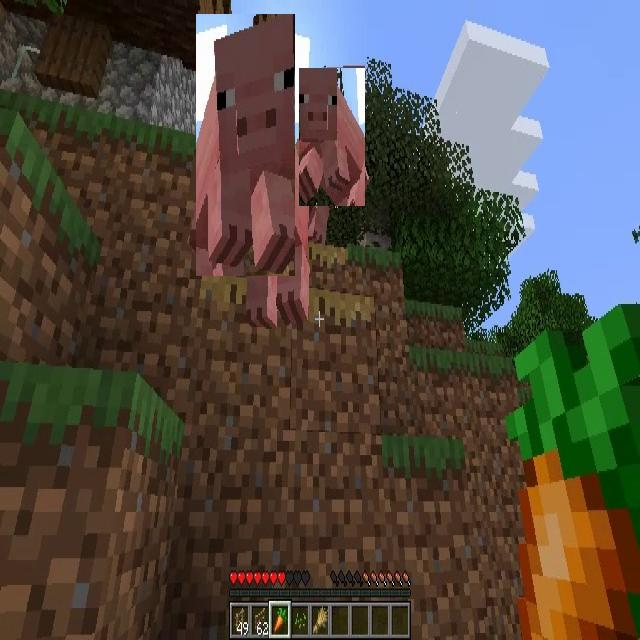pig: (196, 14, 295, 276), (299, 68, 365, 206)
